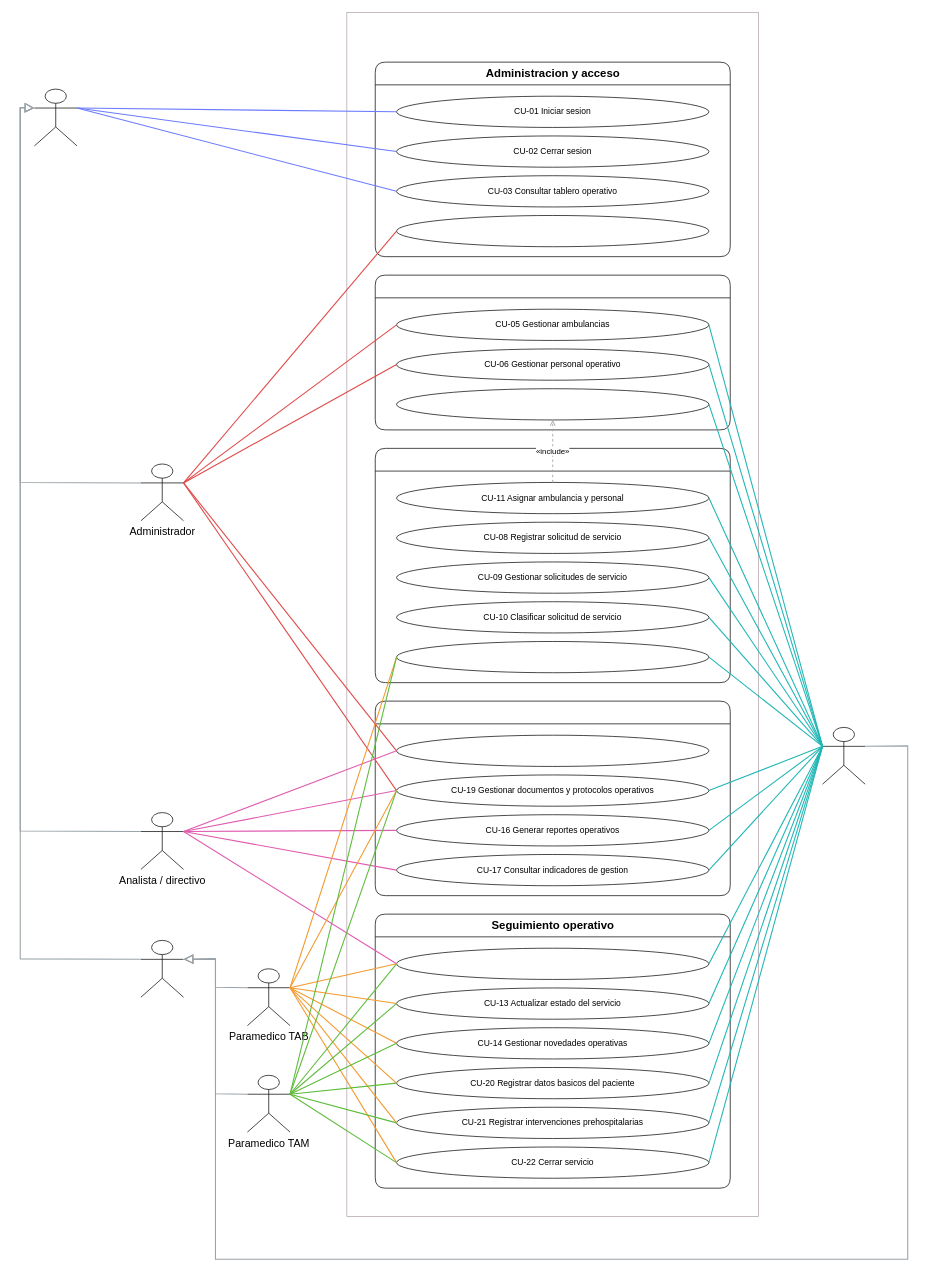
Image size: 929x1281. Some labels were removed from this diagram. Here are the shapes that lost their labels. From the top down, the box of each, then its label:
(34, 88, 77, 146): Usuario del SGA
(396, 215, 709, 247): CU-04 Gestionar usuarios, roles y permisos
(375, 274, 730, 430): Gestion de recursos
(396, 388, 709, 420): CU-07 Consultar disponibilidad de recursos
(375, 448, 730, 683): Solicitudes y asignaciones
(346, 12, 759, 1217): Sistema Gestor de Ambulancias (SGA)
(396, 641, 709, 673): CU-12 Consultar asignaciones
(396, 734, 709, 766): CU-18 Consultar auditoria operativa
(822, 727, 865, 784): Coordinador operativo
(375, 700, 730, 896): Informes, auditoria y documentacion
(140, 940, 184, 997): Personal operativo
(396, 947, 709, 979): CU-15 Consultar historial de servicios
